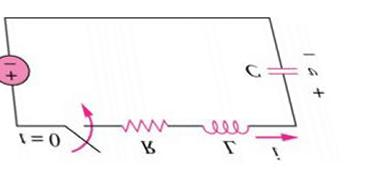inductor: (182, 116, 259, 137)
